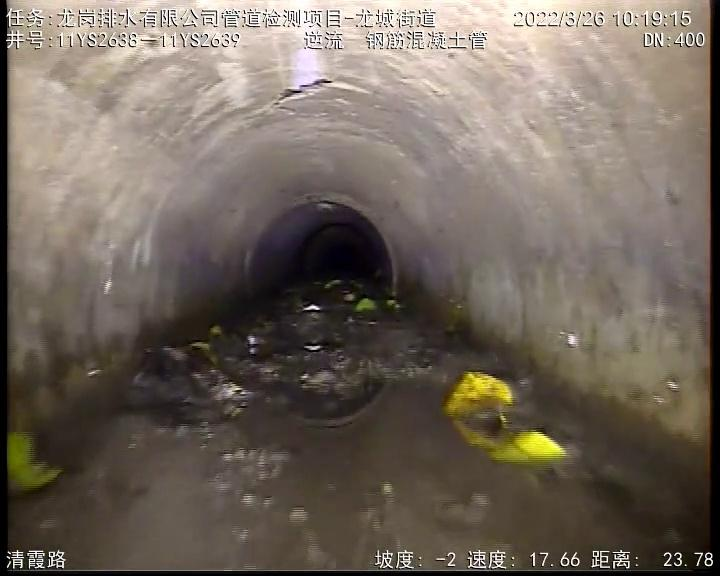PL: (259, 70, 364, 114)
